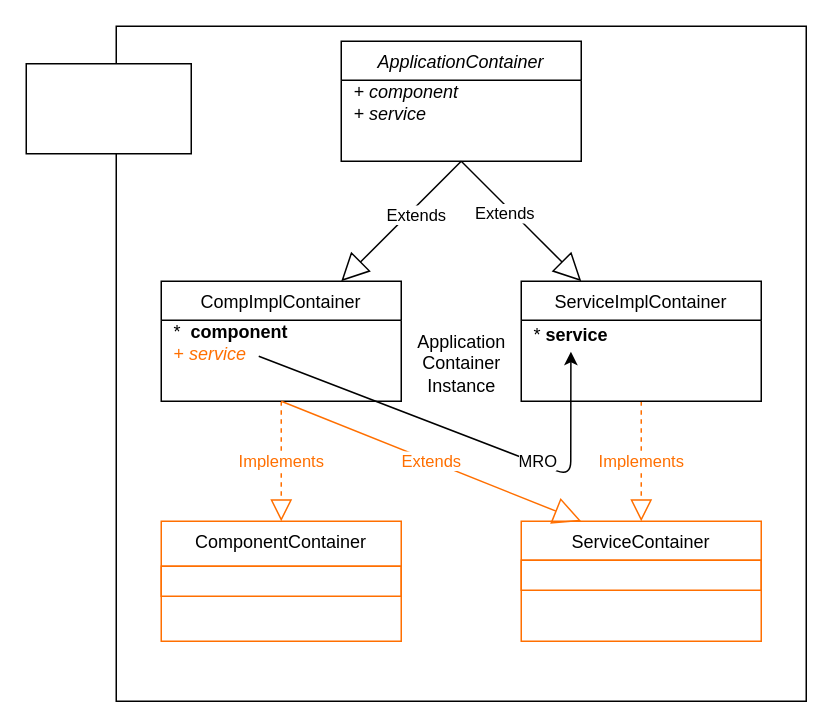
This 833x728 diagram has some shape labels left out. The shapes that lost their labels are listed below. From the top down, each one's centre as x and y in pixels, then its label:
(108,108): - declares * implements + inherits
(280,580): - component
(640,574): - service
